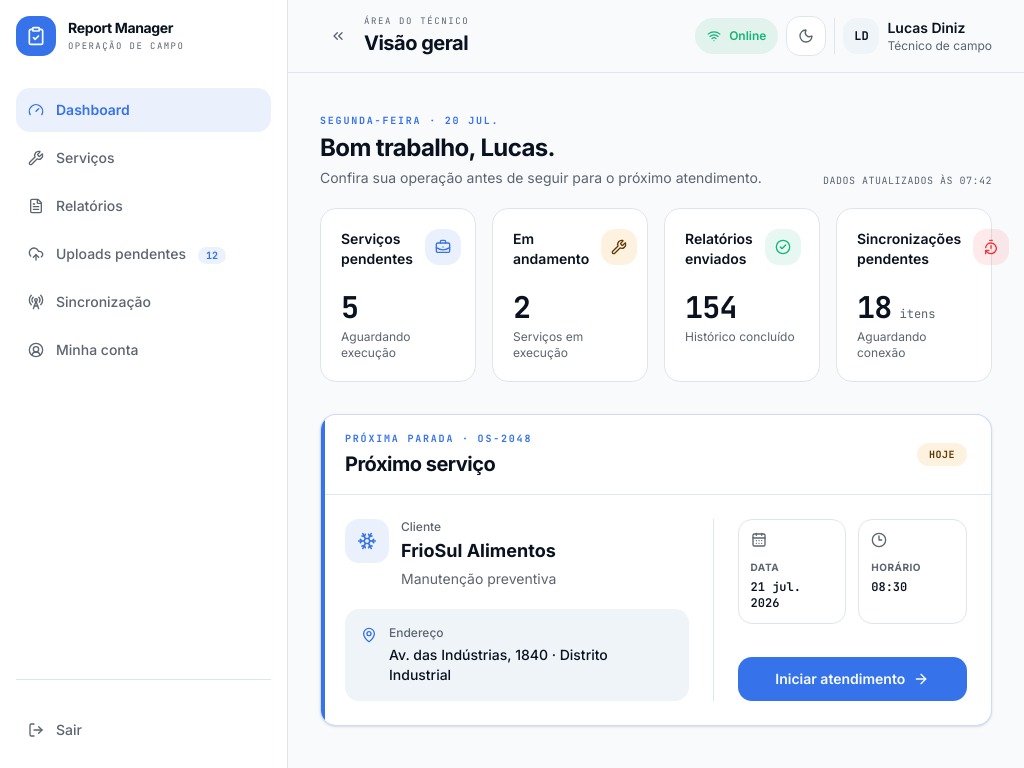
Scenario: technician experience › persists the selected color theme
Click the button named "Ativar modo escuro" at (806, 36), box [786,16,826,56]
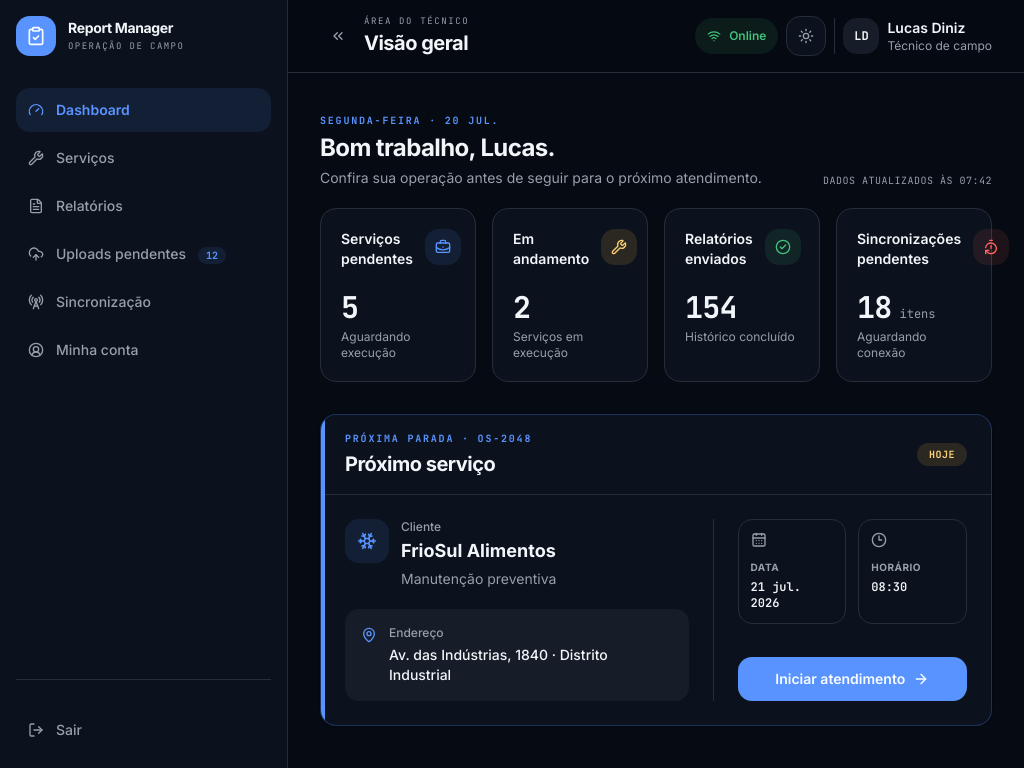
Expected: the button named "Ativar modo claro" is shown, [786,16,826,56]
